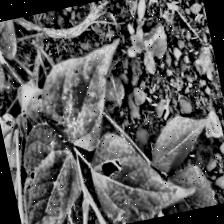ALS: (28, 40, 140, 150), (84, 120, 191, 224), (4, 118, 85, 224)
